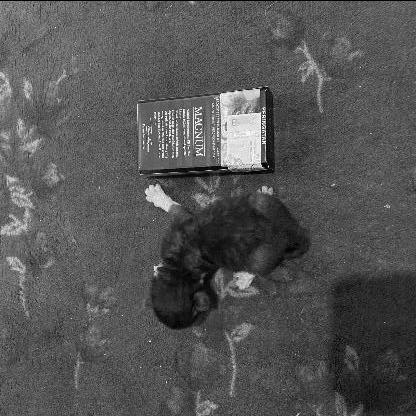objects: (138, 86, 274, 174)
